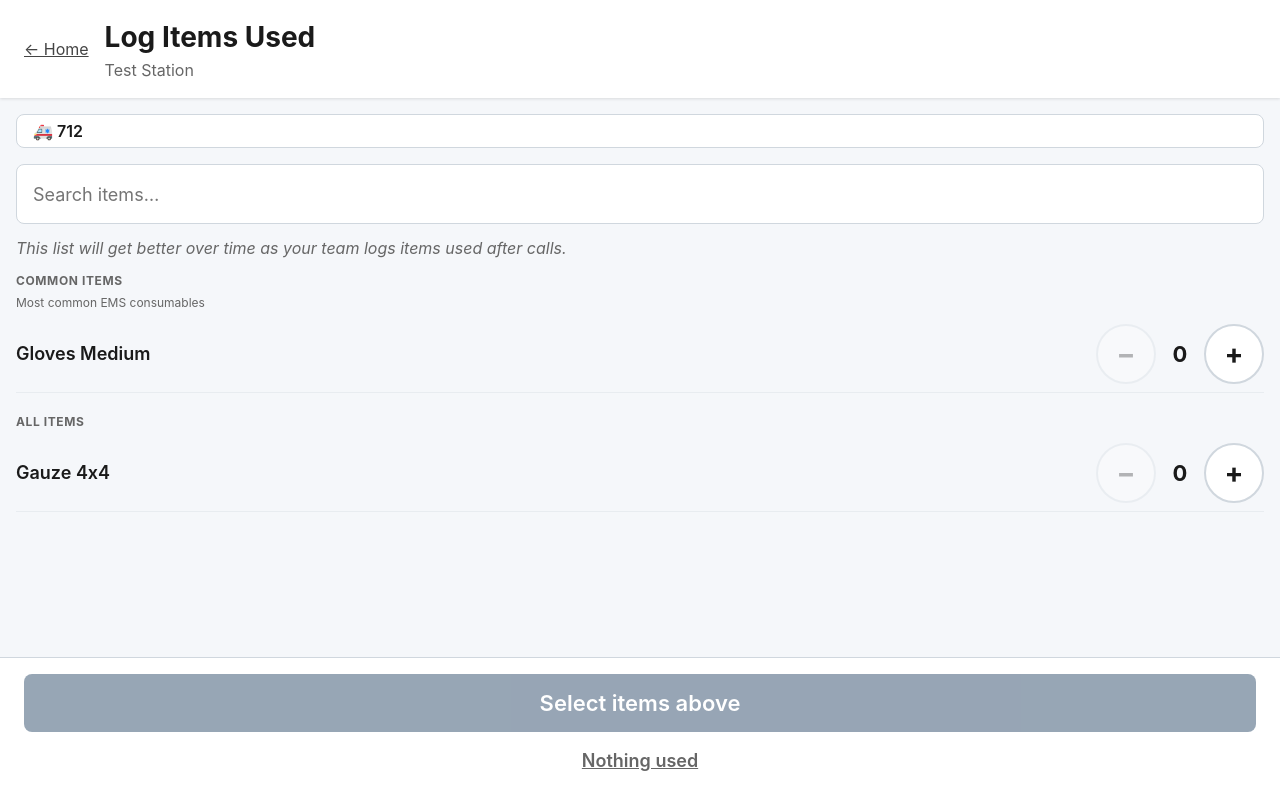
UsageLogScreen -- submit error › shows error alert when logUsage rejects
Expected: the text "Gloves Medium" is shown, [16,343,150,364]
Click the button named "add one gloves medium".
click(1234, 354)  # box [1204,324,1264,384]
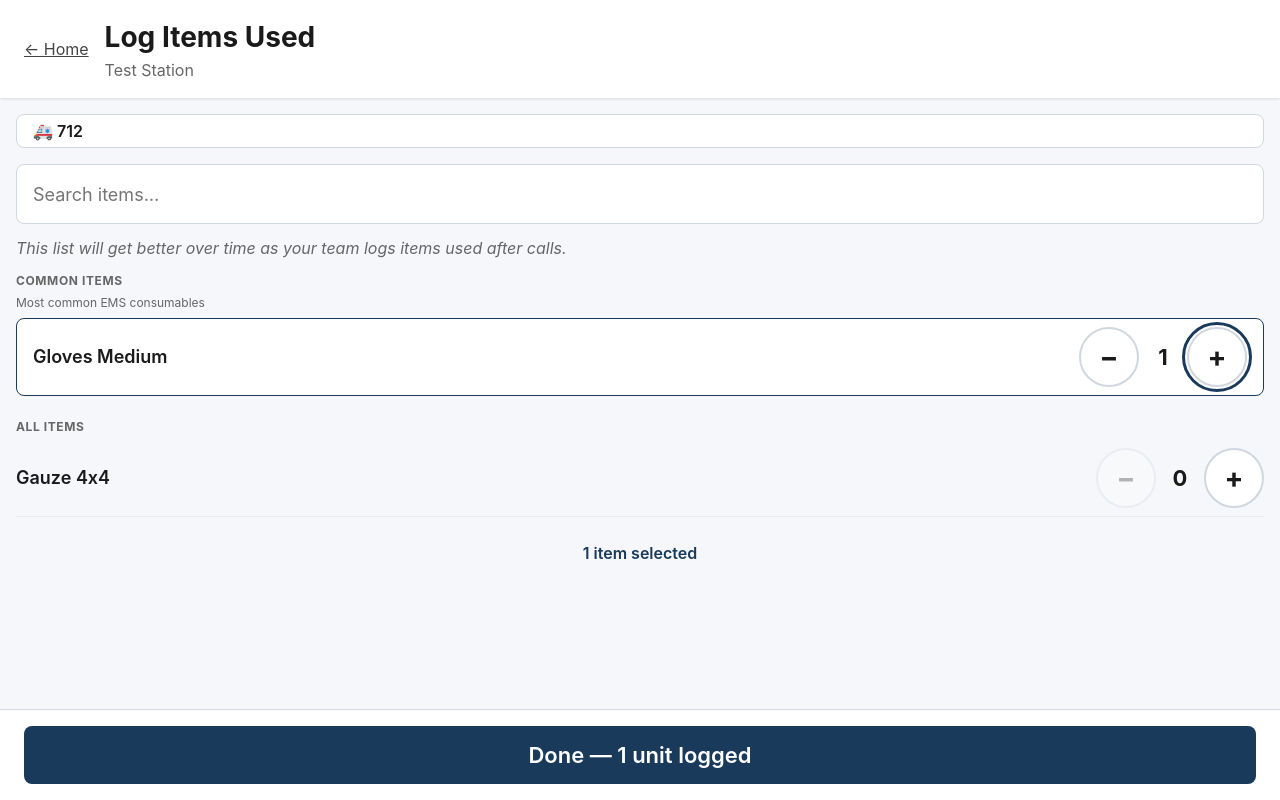
Result: the button "Done — 1 unit logged" is enabled
Click the button "Done — 1 unit logged".
click(640, 755)  # box [24,726,1256,784]
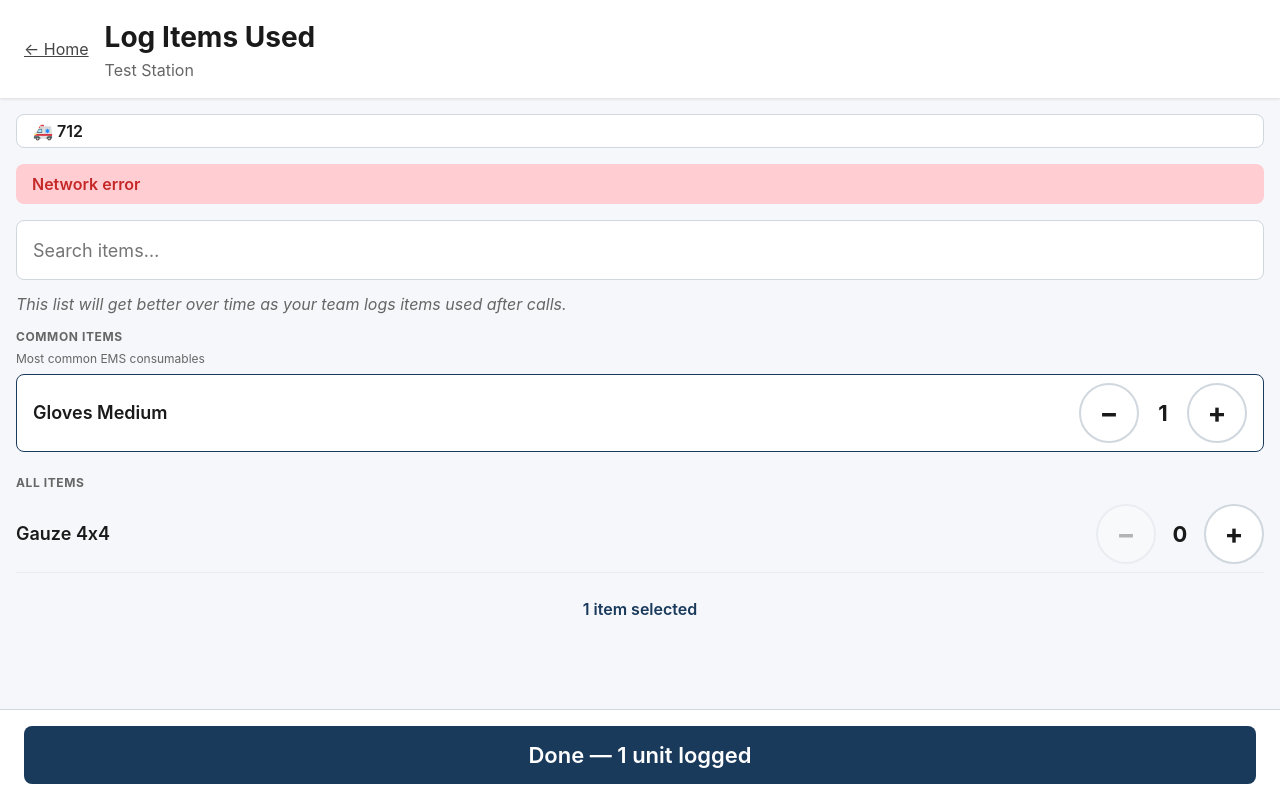
Result: the message "Network error" is shown at [16,164,1264,204]
